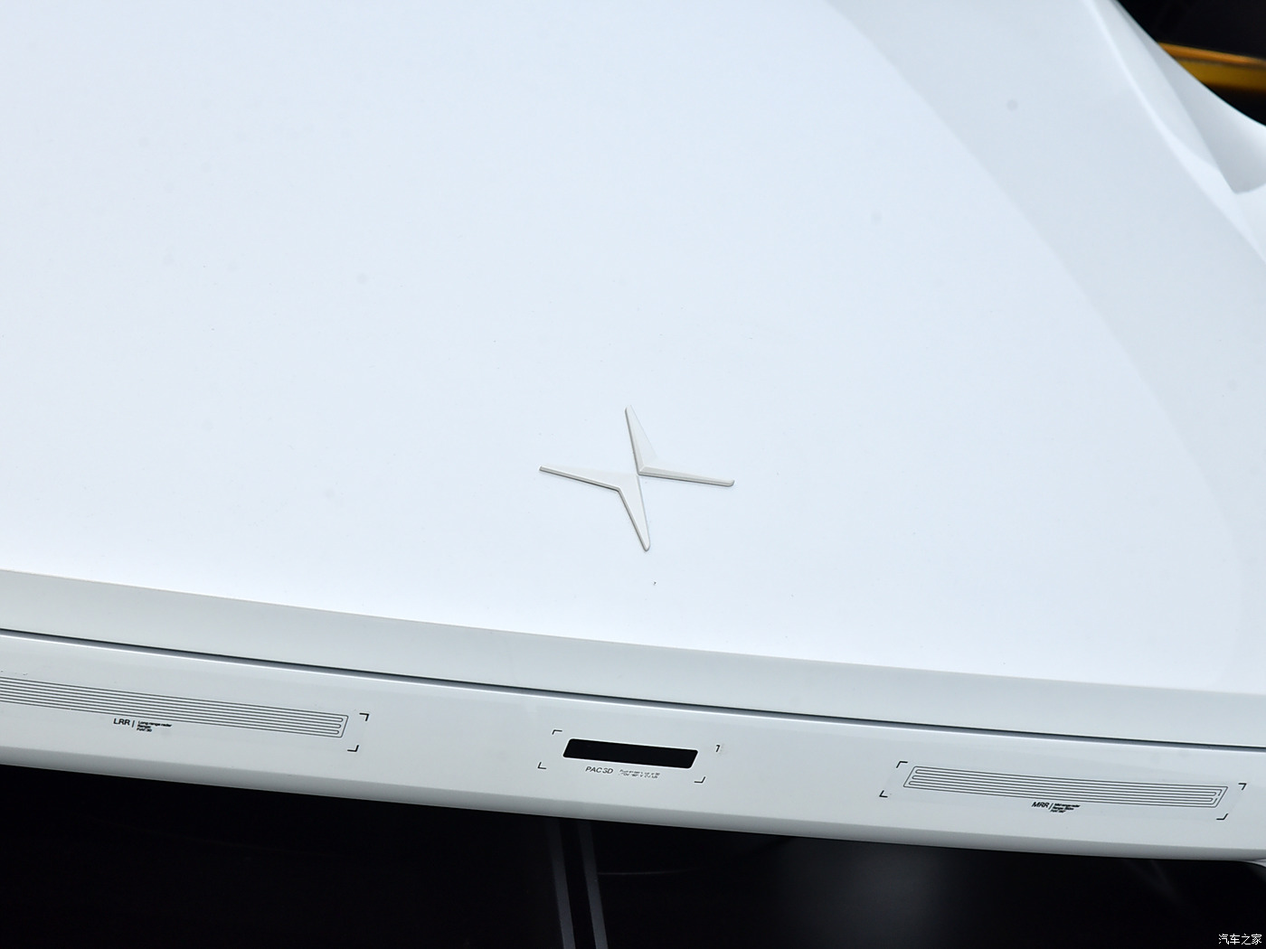Polestar: (541, 406, 734, 551)
